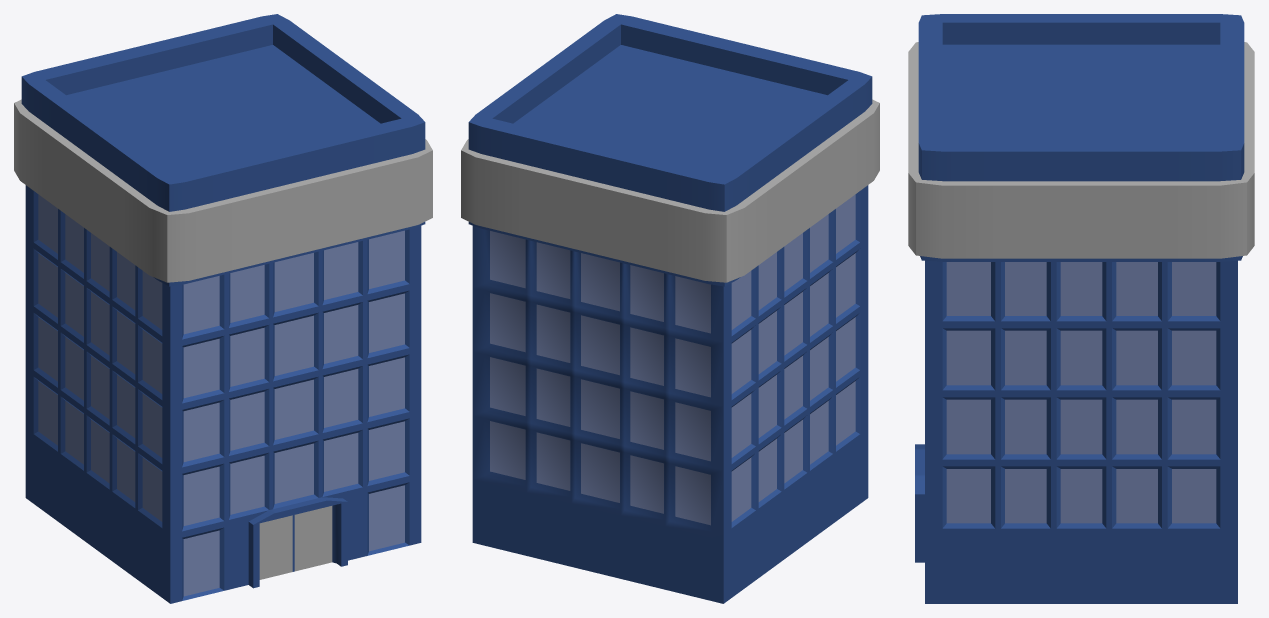
The model's file is office.fbx.
3 renders of one model, left to right at view 1: azimuth 30°, elevation 25°; view 2: azimuth 150°, elevation 25°; view 3: azimuth 270°, elevation 25°, orthographic. The views are drawn at different scales.
Visible parts, largest first — view 1: Office; view 2: Office; view 3: Office.
Part boxes in pixels (x1,y1,x2,y2): Office: [14, 14, 432, 603]; Office: [461, 14, 879, 603]; Office: [908, 14, 1254, 603].
Size of the model in its own units: 828 by 1199 by 828.
